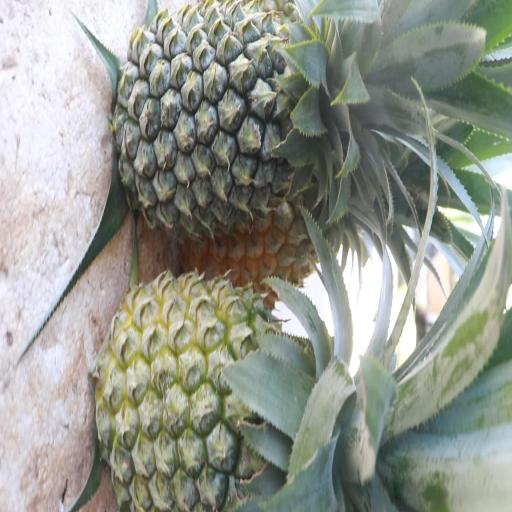------------------------------: (102, 279, 388, 512)
